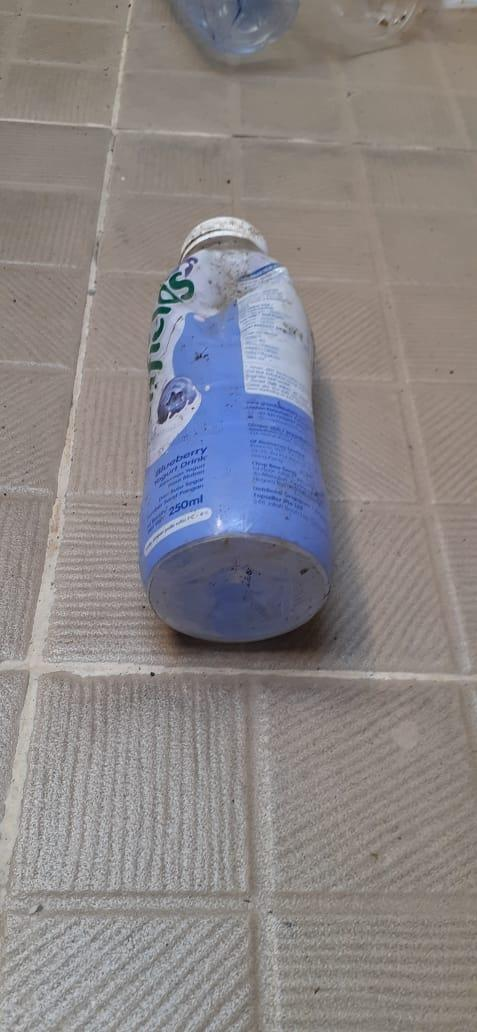Plastik: (135, 211, 333, 646)
